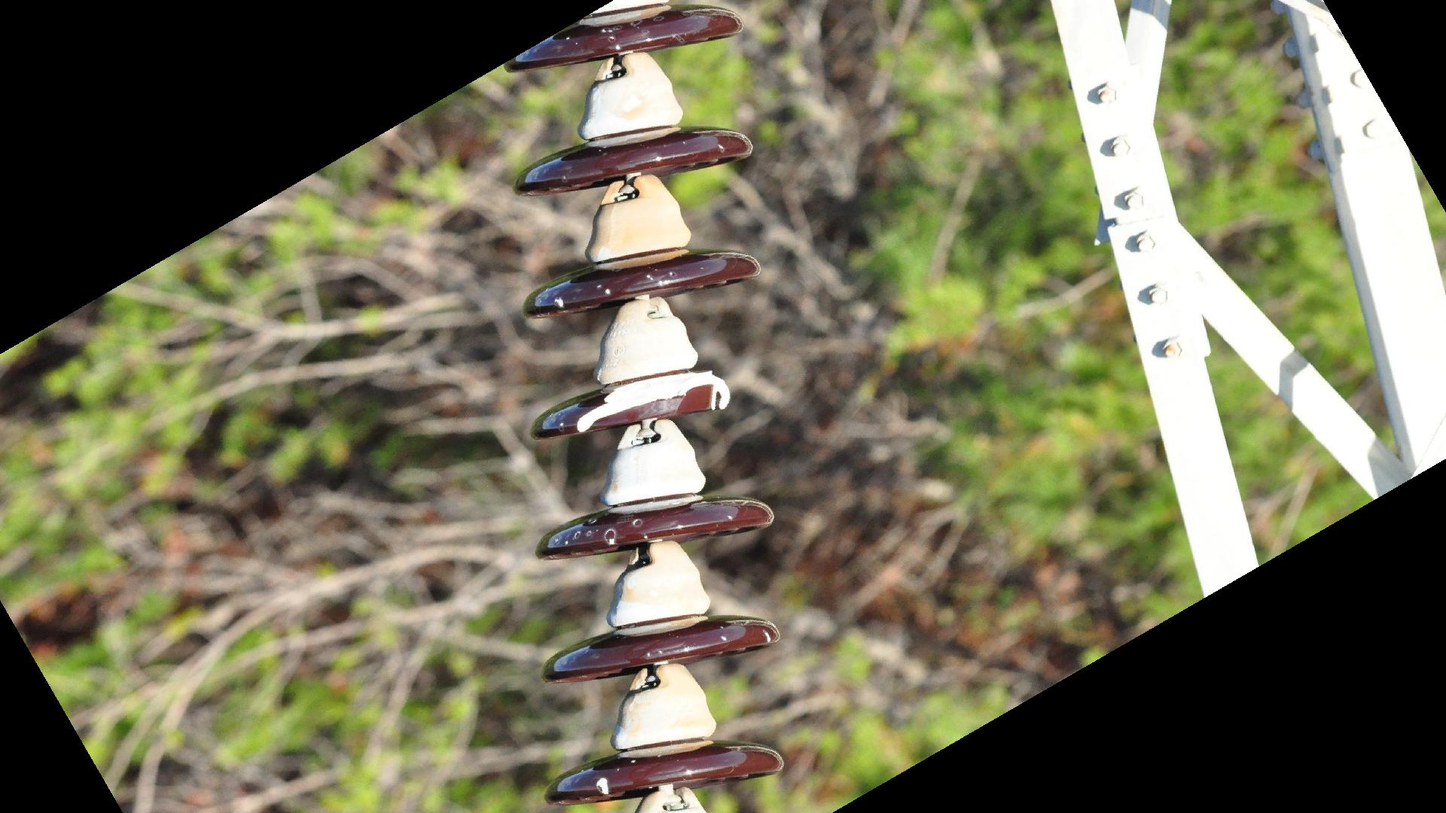insulator: (499, 1, 793, 813)
insulator_breakage: (569, 366, 737, 440)
